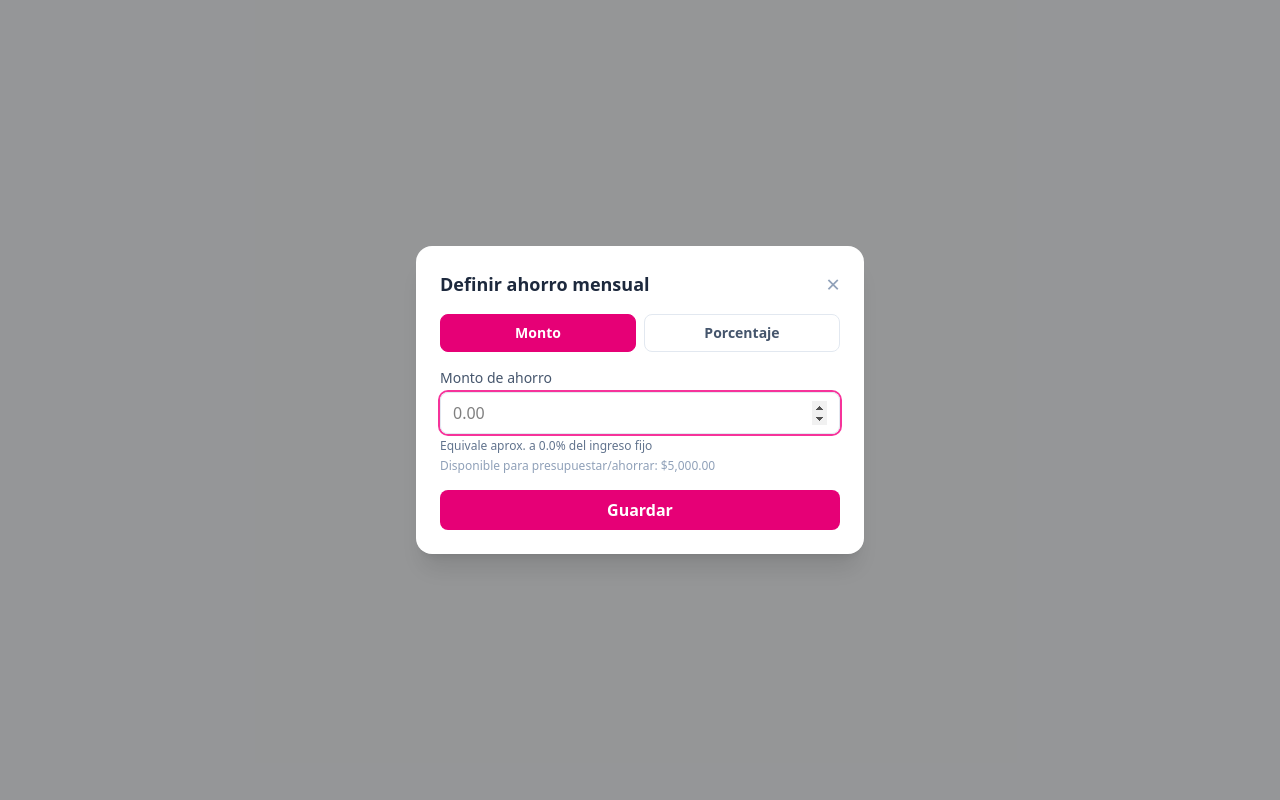
Test case: ModalAhorro › valida que el valor sea mayor a 0
Click the button "Guardar". click: x=640, y=510
box: [440, 490, 840, 530]
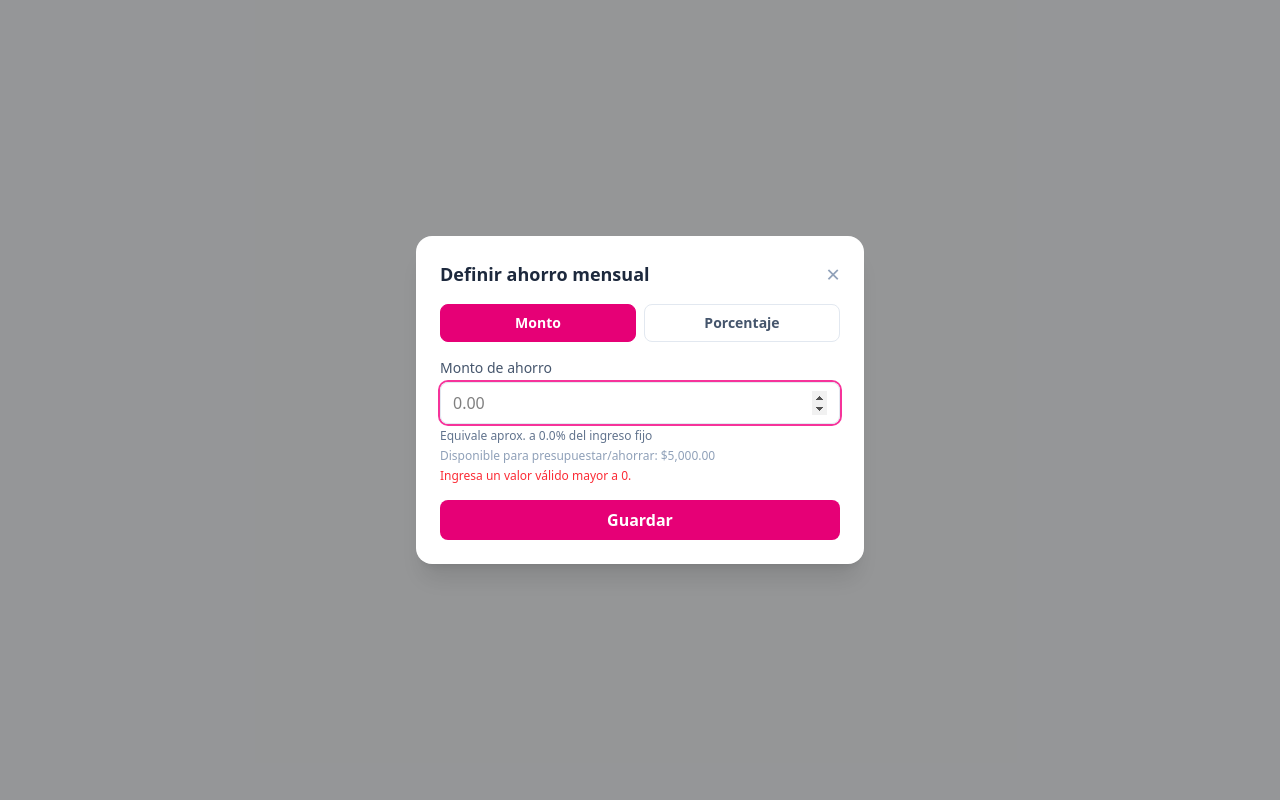
Expected: the text "Ingresa un valor válido mayor a 0." is shown, [440, 467, 631, 484]
